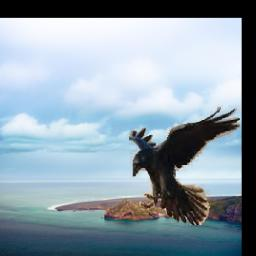Crow: (129, 105, 240, 225)
